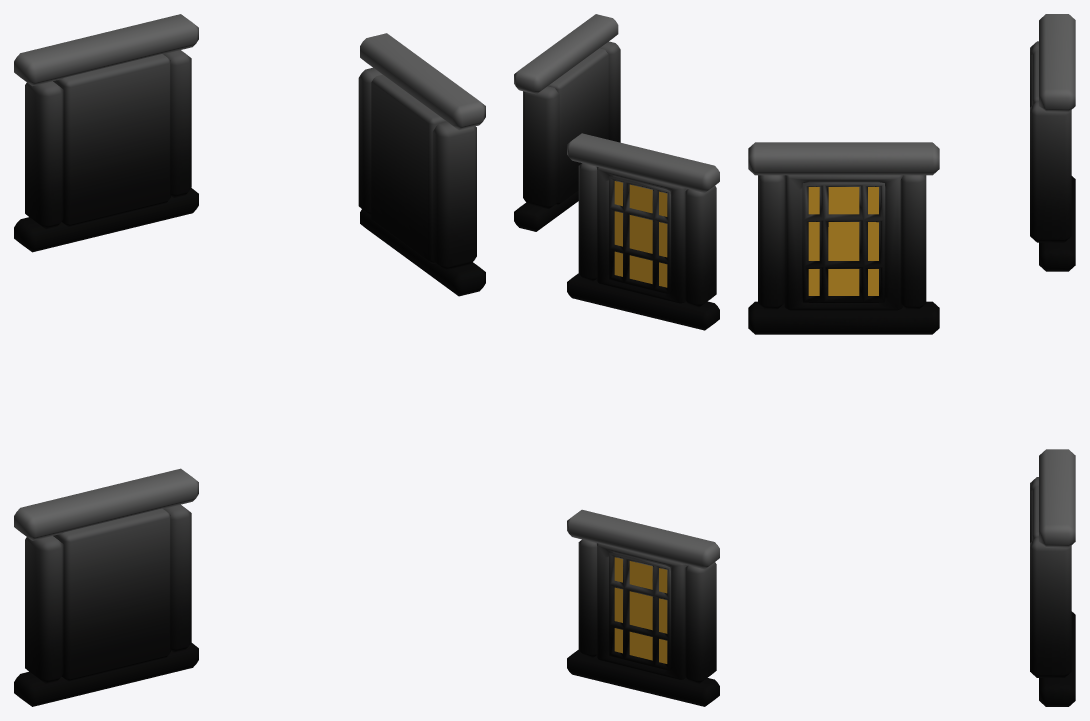
Rendered from SM_Brick_Window_07.fbx.
3 views of the same model, side by side, from view 1: azimuth 30°, elevation 25°; view 2: azimuth 150°, elevation 25°; view 3: azimuth 270°, elevation 25° (orthographic). The views are drawn at different scales.
Visible parts, largest first — view 1: SM_Brick_Window_07; view 2: SM_Brick_Window_07; view 3: SM_Brick_Window_07.
Boxes of the visible parts, <box> form: SM_Brick_Window_07: <box>14,14,485,706</box>; SM_Brick_Window_07: <box>514,14,719,706</box>; SM_Brick_Window_07: <box>748,14,1075,706</box>.
Size of the model in its own units: 0.7133 by 1.43 by 0.6861.
